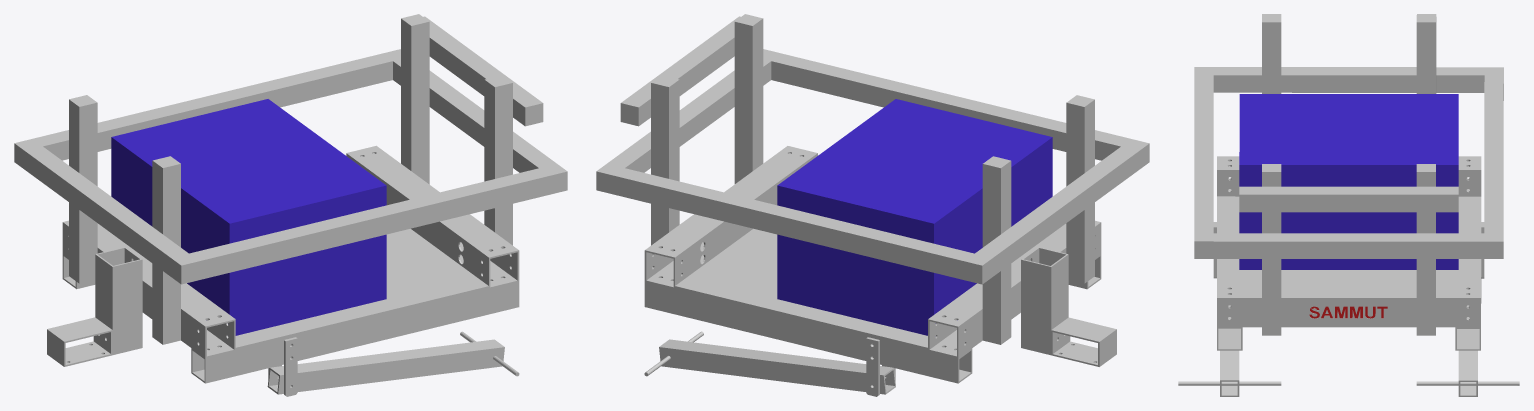
Rendered from chassis.dae.
The picture shows the model from 3 angles, left to right: view 1: azimuth 30°, elevation 25°; view 2: azimuth 150°, elevation 25°; view 3: azimuth 270°, elevation 25°; orthographic projection. The views are drawn at different scales.
Visible parts, largest first — view 1: chassis_no_castor; view 2: chassis_no_castor; view 3: chassis_no_castor.
Boxes of the visible parts, x1,y1,x2,y2 form: chassis_no_castor: (14, 14, 567, 396); chassis_no_castor: (596, 14, 1149, 396); chassis_no_castor: (1178, 14, 1519, 396).
Size of the model in its own units: 0.9021 by 0.6731 by 0.5211.
